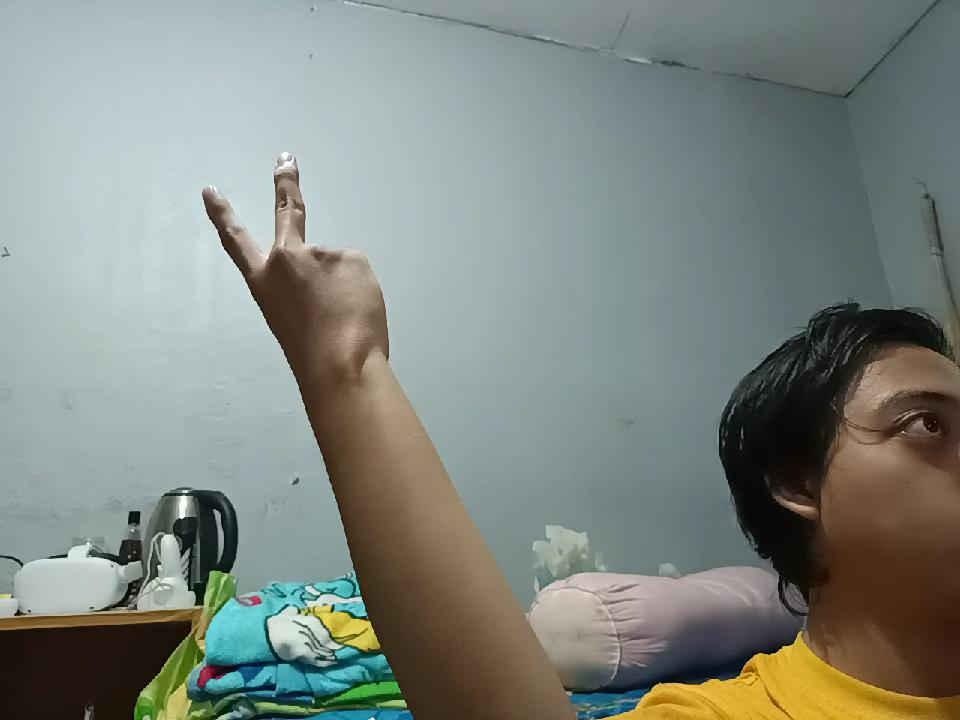scissors: (180, 148, 389, 369)
